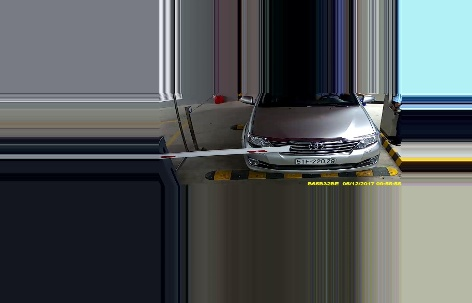plate: (296, 154, 340, 166)
